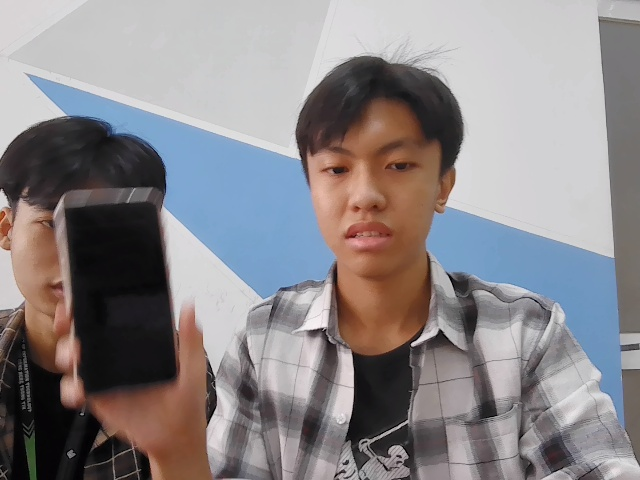human: (287, 45, 463, 287)
phone: (54, 192, 190, 395)
